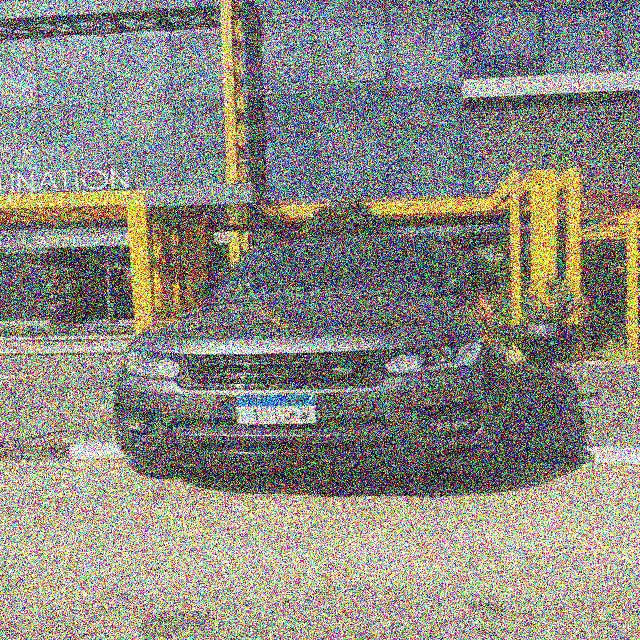License Plate: (233, 393, 319, 425)
